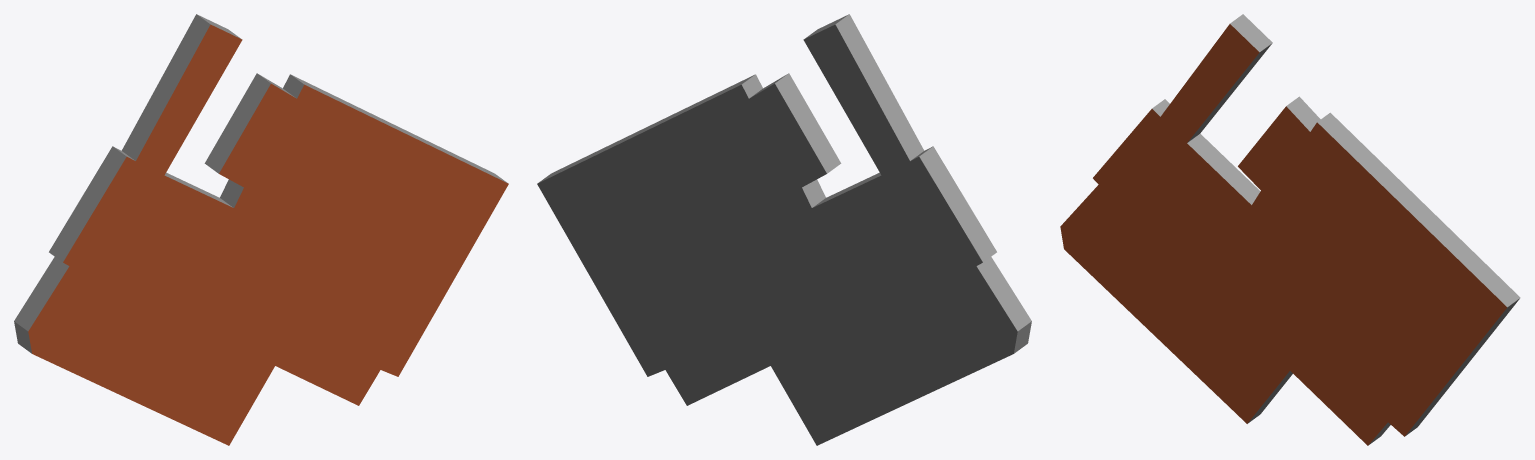
Rendered from construction_0149_assumed_A_Grande_construcao_h6m.obj.
3 views of the same model, side by side, from view 1: azimuth 30°, elevation 25°; view 2: azimuth 150°, elevation 25°; view 3: azimuth 330°, elevation 25° (orthographic). The views are drawn at different scales.
Parts seen in each view (by area): view 1: construction_0149_assumed_A_Grande_construcao; view 2: construction_0149_assumed_A_Grande_construcao; view 3: construction_0149_assumed_A_Grande_construcao.
Boxes of the visible parts, bbox=[...] form: construction_0149_assumed_A_Grande_construcao: bbox=[14, 14, 508, 445]; construction_0149_assumed_A_Grande_construcao: bbox=[537, 14, 1031, 445]; construction_0149_assumed_A_Grande_construcao: bbox=[1060, 14, 1520, 445].
Size of the model in its own units: 117 by 99.08 by 6.
